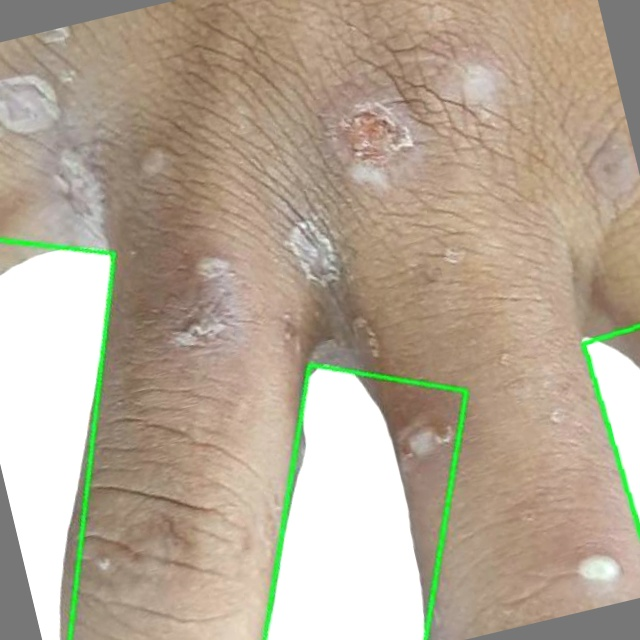Scabies: (0, 212, 183, 639), (264, 364, 466, 639)
